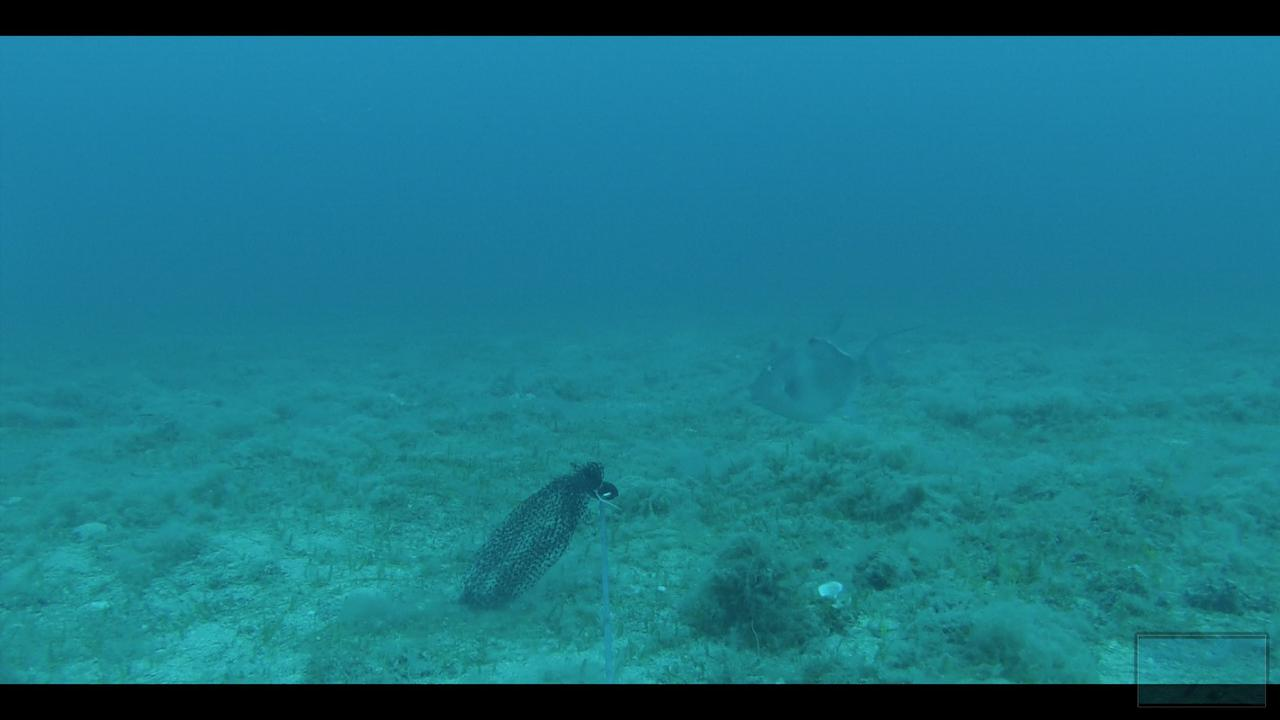balistes: (742, 312, 925, 438)
